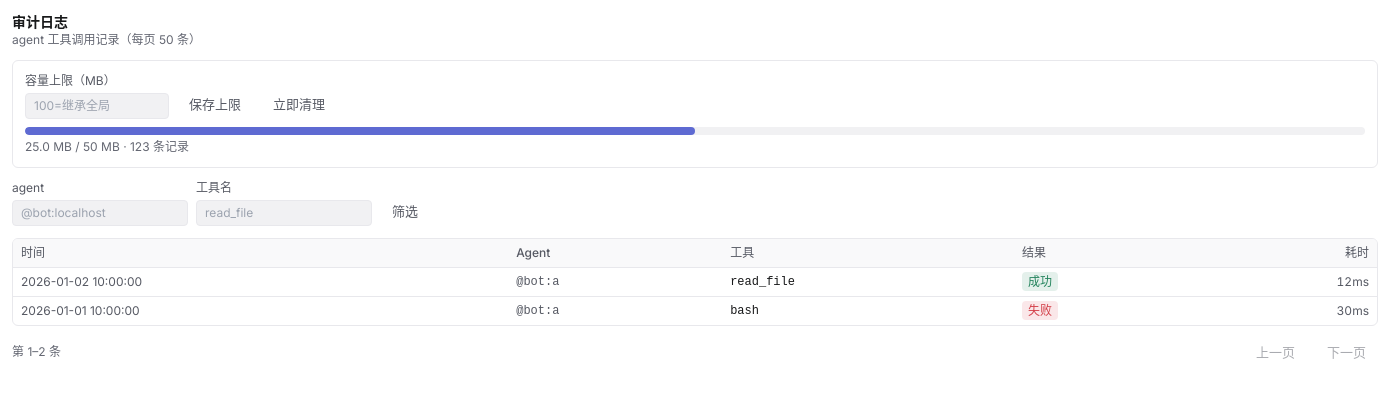
Test: AuditLog › 立即清理 → enforceNow(ws) + 显示删除条数 + 刷新配额
The image size is (1390, 400).
Check: the text "25.0 MB / 50 MB · 123 条记录" is shown, box [25,139,189,154]
Click the button "立即清理". click: (299, 105)
box: [261,91,337,119]
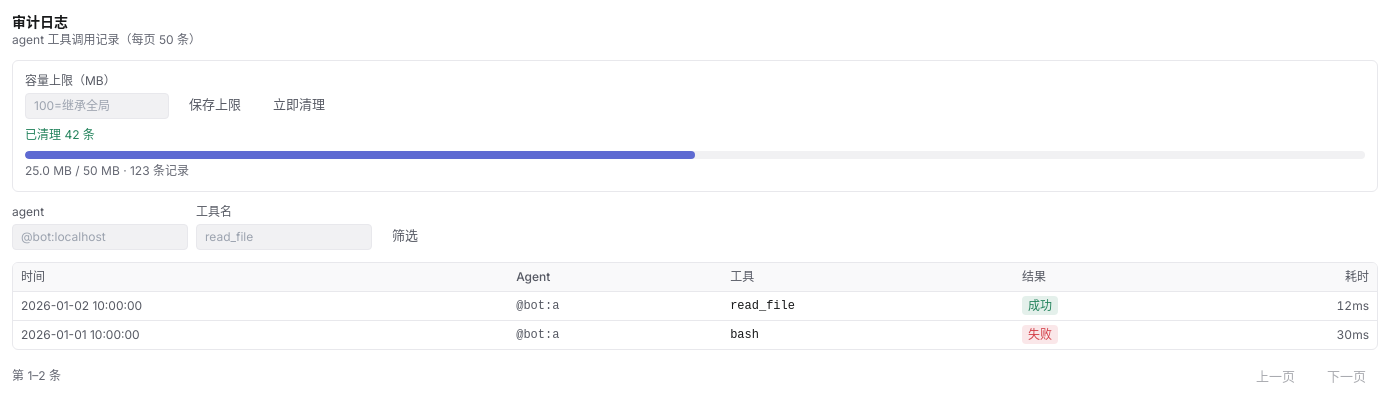
Check: the text "已清理 42 条" is shown, box [25,127,95,142]
